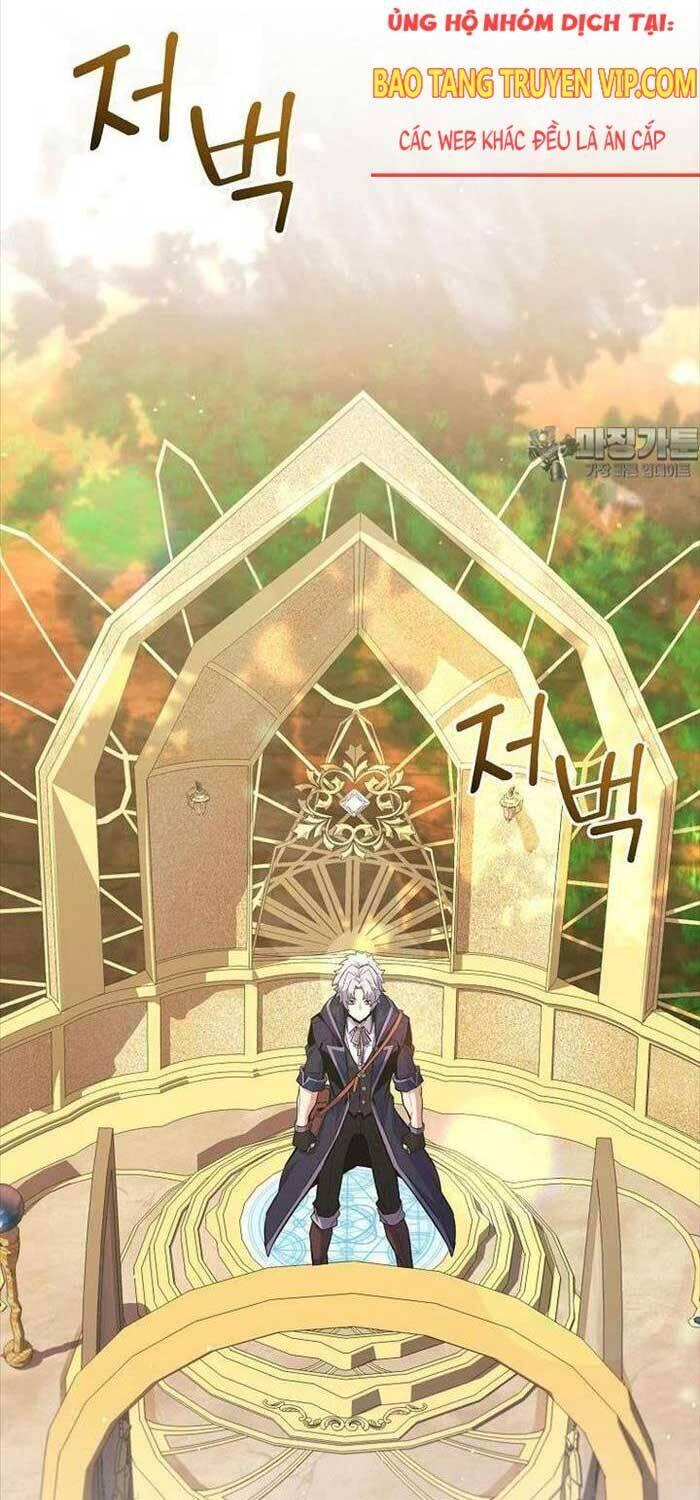quangcao: (366, 0, 700, 178)
